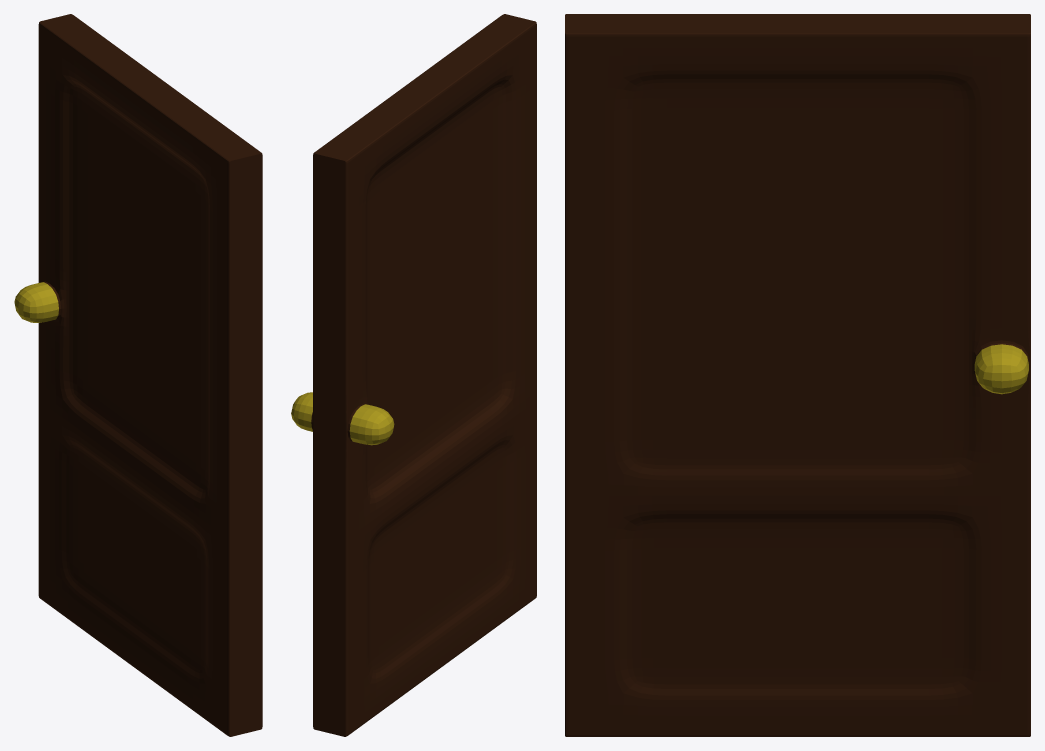
File: Door.fbx
3 views of the same model, side by side, from view 1: azimuth 30°, elevation 25°; view 2: azimuth 150°, elevation 25°; view 3: azimuth 270°, elevation 25° (orthographic). The views are drawn at different scales.
Parts seen in each view (by area): view 1: Door; view 2: Door; view 3: Door.
Boxes of the visible parts, x1,y1,x2,y2 form: Door: [14, 14, 262, 736]; Door: [291, 14, 536, 736]; Door: [565, 14, 1030, 736].
Size of the model in its own units: 0.6946 by 4 by 2.4.
